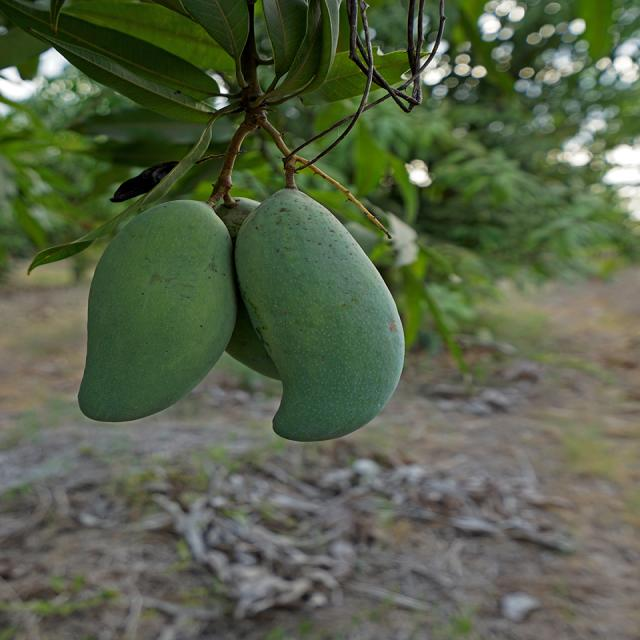mango: (224, 192, 423, 438), (68, 190, 247, 436)
